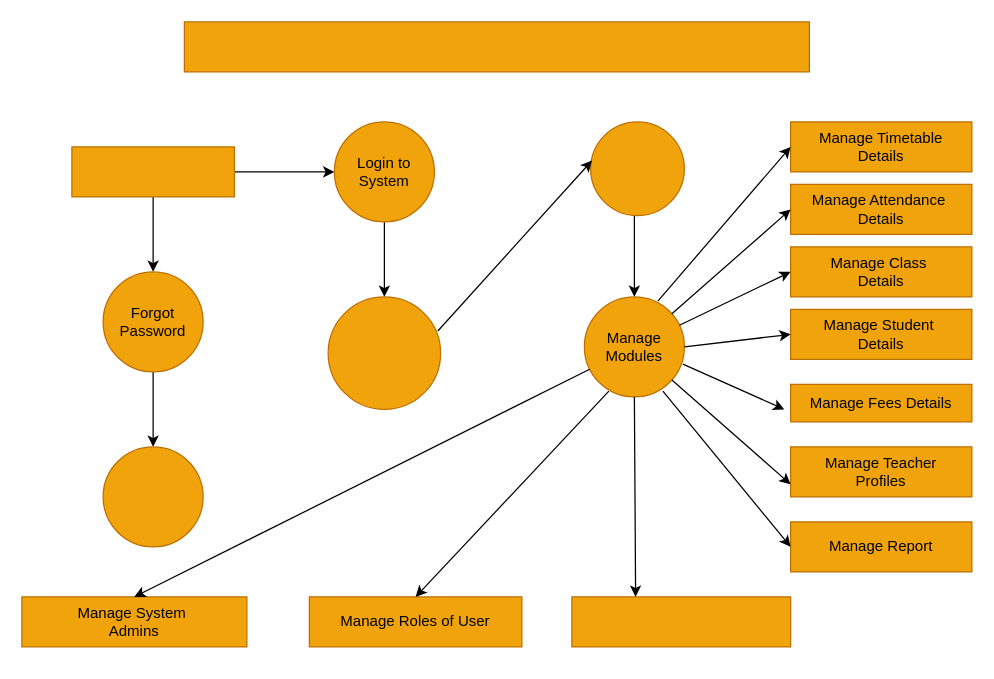
The diagram is 994 pixels wide and 679 high, and some of its shapes have lost their labels. The centre of each missing label's shape, as x and y in pixels:
"Admin" belongs at point 152,171.
"Check Credentials" belongs at point 384,352.
"Check Roles of Access" belongs at point 636,168.
"Manage User Permission" belongs at point 681,621.
"Send Email to Usee" belongs at point 152,496.
"Student Inforamation System" belongs at point 496,46.
